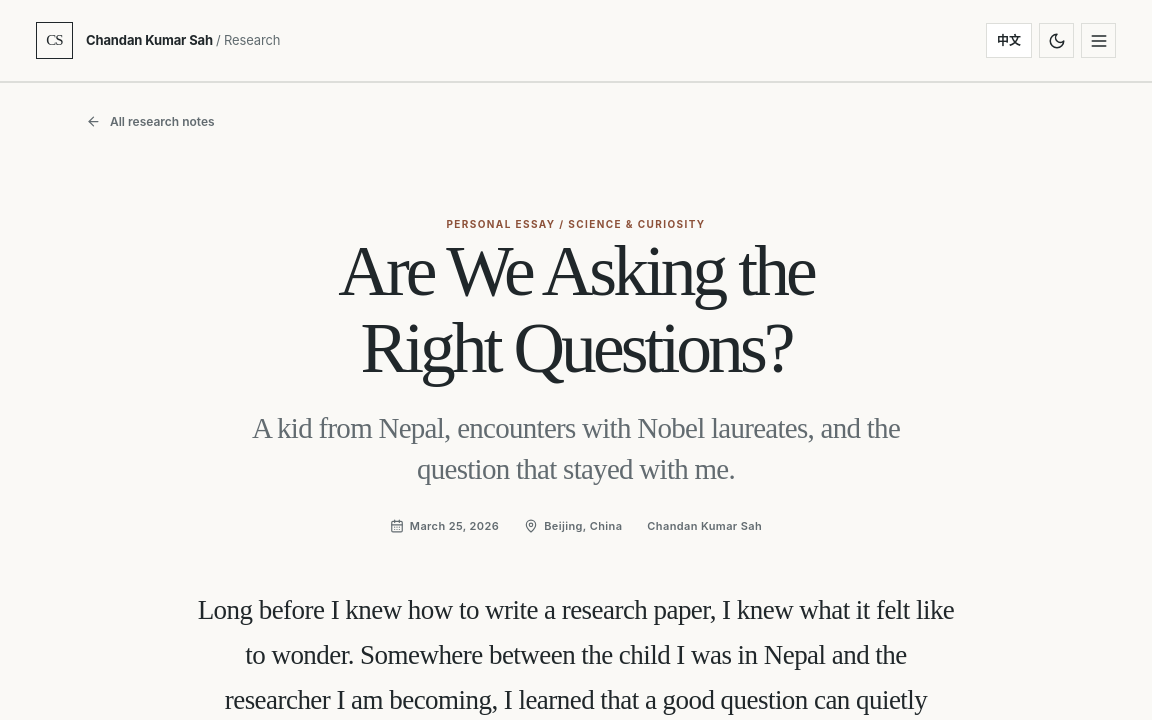
Embedded article likes and comments › keeps one discussion during Chinese language change
Click the button with aria-label "Switch website to Simplified Chinese" at [1009, 40], box x1=986 y1=23 x2=1032 y2=58
(page scrolled)
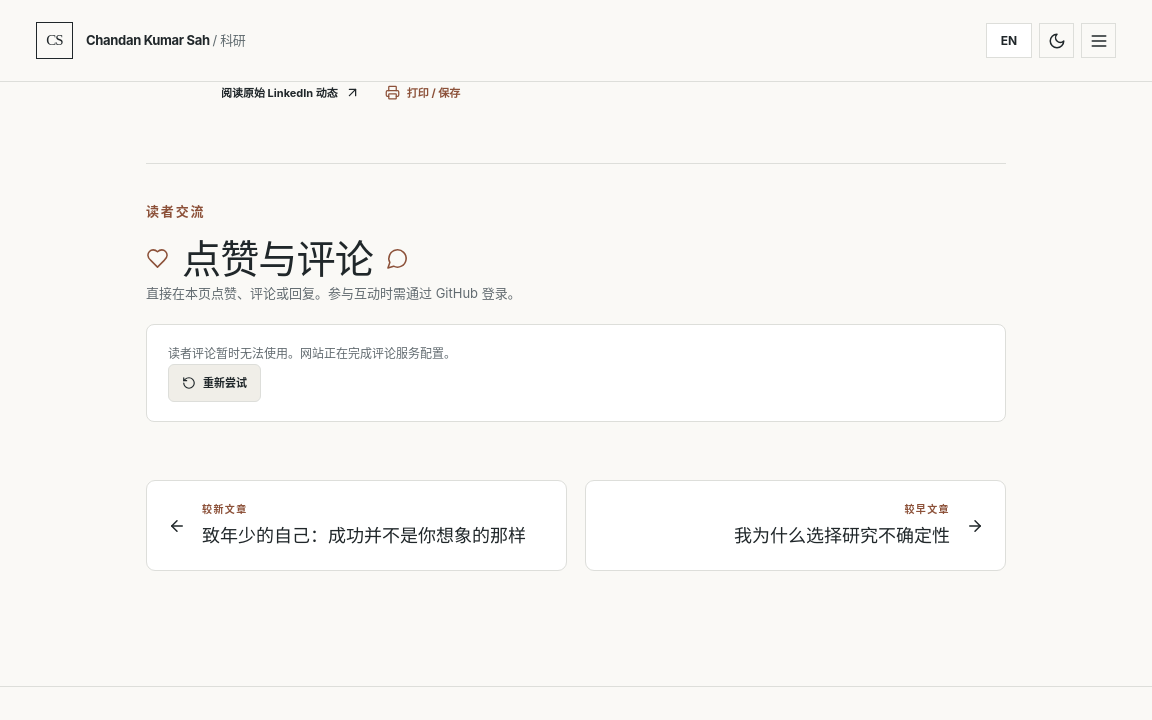
Check: the element "点赞与评论" is shown, box x1=146 y1=163 x2=1006 y2=422
